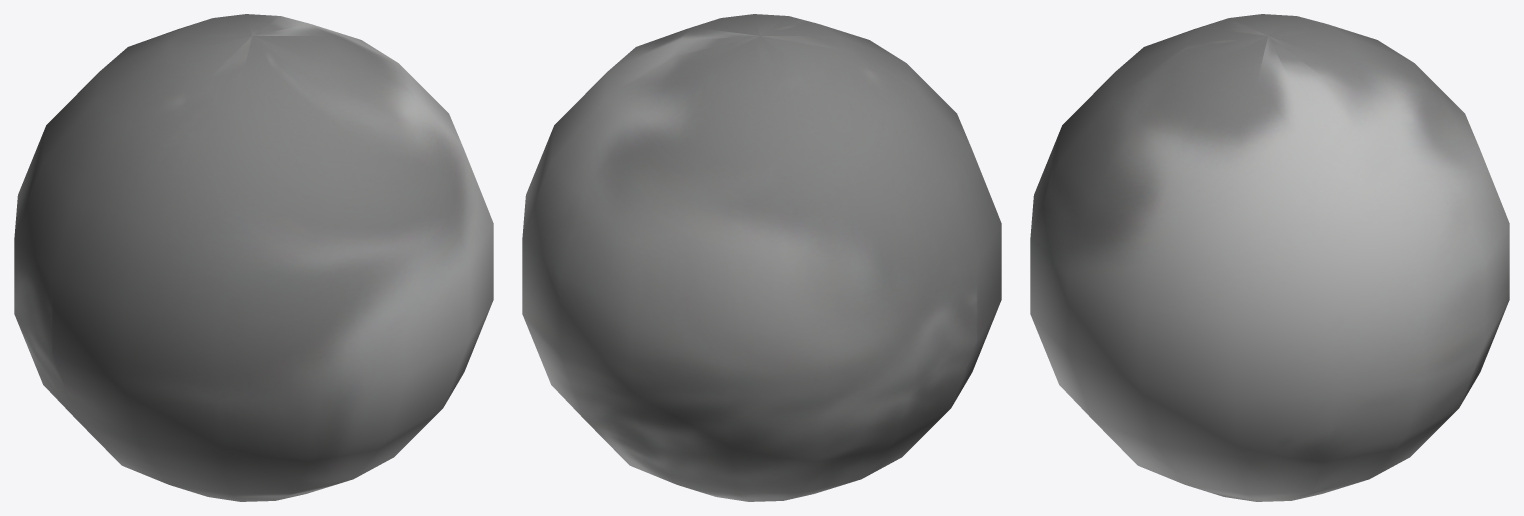
File: tinyplanet.fbx
3 renders of one model, left to right at view 1: azimuth 30°, elevation 25°; view 2: azimuth 150°, elevation 25°; view 3: azimuth 270°, elevation 25°, orthographic.
Visible parts, largest first — view 1: Sphere.001; view 2: Sphere.001; view 3: Sphere.001.
Boxes of the visible parts, x1,y1,x2,y2 form: Sphere.001: (14, 14, 493, 501); Sphere.001: (522, 14, 1001, 501); Sphere.001: (1030, 14, 1509, 501).
Bounding box in the file's own units: 0.4369 × 0.4463 × 0.436.
